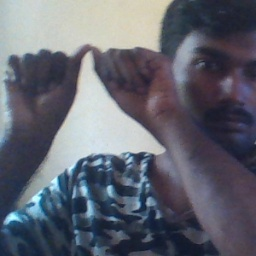A: (27, 34, 157, 115)
